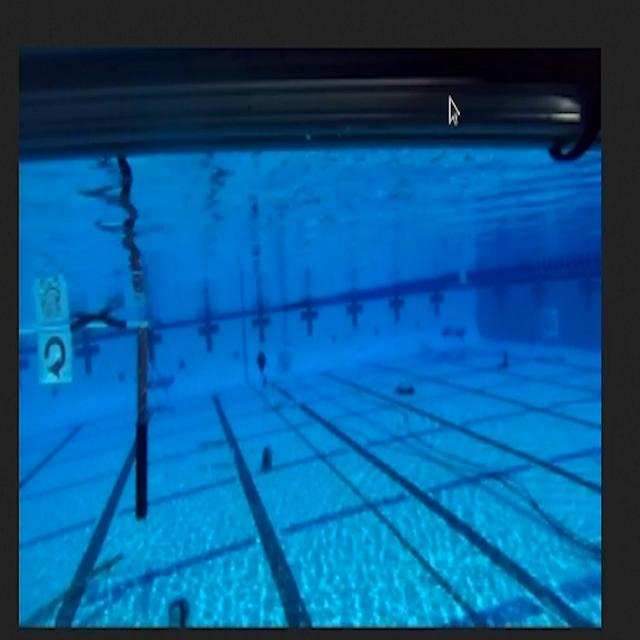Gate: (18, 313, 154, 542)
